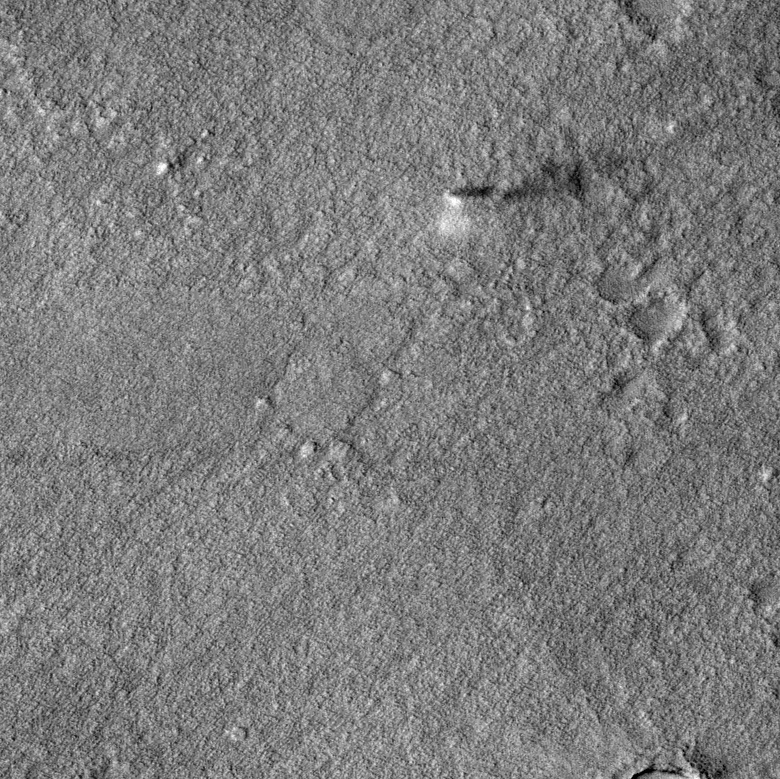dust_devil: (437, 156, 595, 237)
